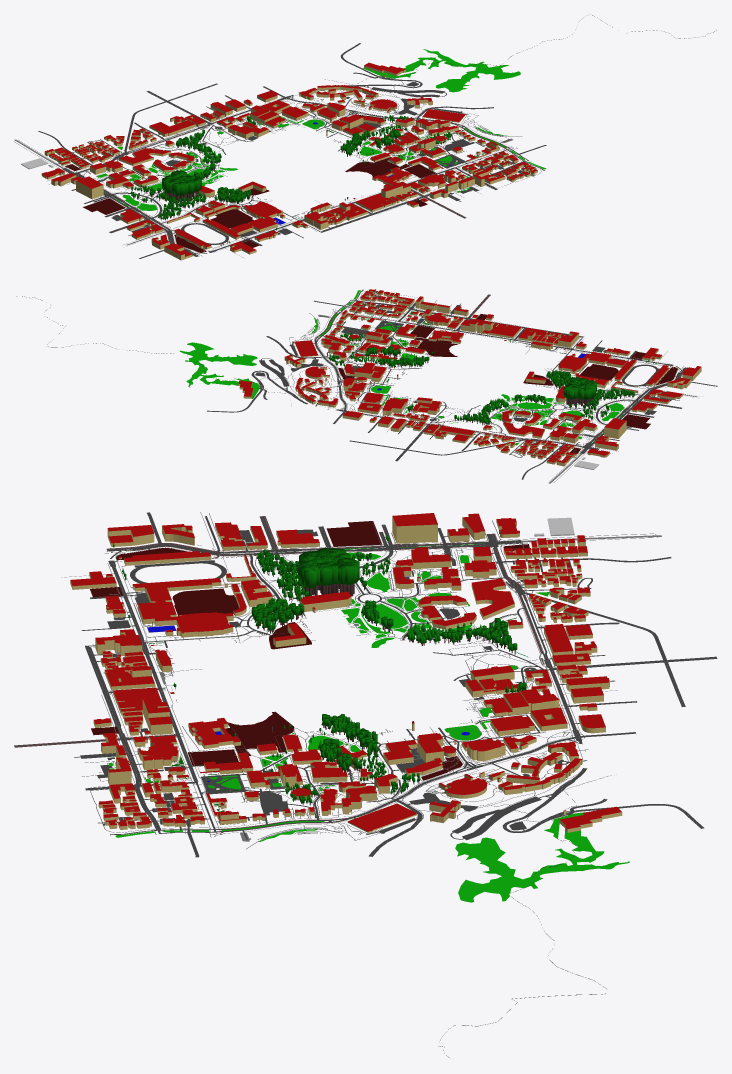
Rendered from outer.glb.
3 renders of one model, top to bottom at view 1: azimuth 30°, elevation 25°; view 2: azimuth 150°, elevation 25°; view 3: azimuth 270°, elevation 25°, orthographic. The views are drawn at different scales.
Parts seen in each view (by area): view 1: Tree n12159033546; view 2: Tree n12159033546; view 3: Tree n12159033546.
Part boxes in pixels (x1,y1,x2,y2): Tree n12159033546: [14, 15, 716, 260]; Tree n12159033546: [16, 289, 717, 483]; Tree n12159033546: [14, 512, 717, 1057].
Size of the model in its own units: 2355 by 61.54 by 1279.
